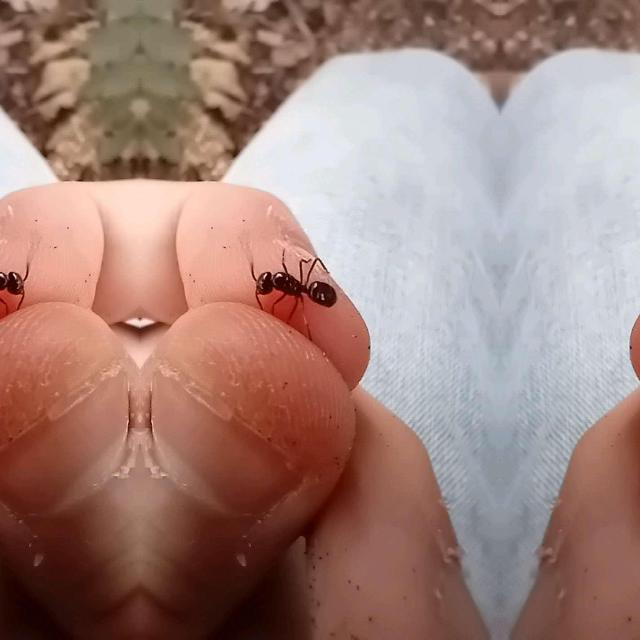Lasius: (232, 246, 354, 320), (0, 244, 46, 320)
